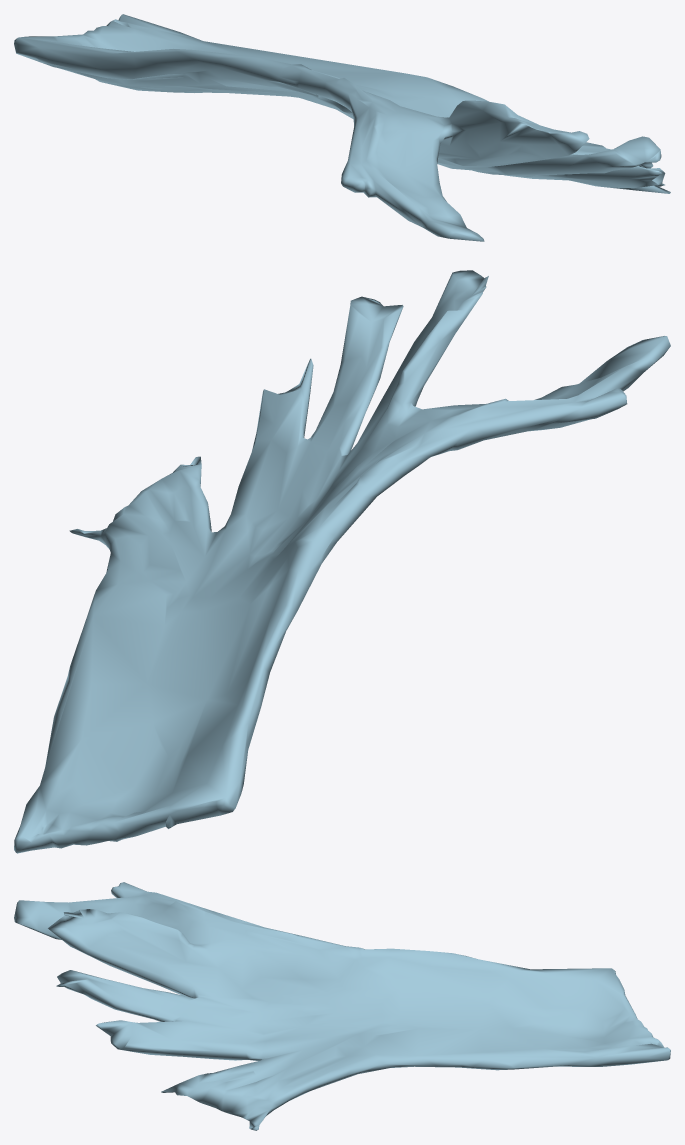
Rendered from articulacoes-long-plantar-ligament-l.glb.
3 renders of one model, top to bottom at view 1: azimuth 30°, elevation 25°; view 2: azimuth 150°, elevation 25°; view 3: azimuth 270°, elevation 25°, orthographic. The views are drawn at different scales.
Visible parts, largest first — view 1: Long plantar ligament.l; view 2: Long plantar ligament.l; view 3: Long plantar ligament.l.
Part boxes in pixels (bbox=[...]): Long plantar ligament.l: bbox=[14, 14, 670, 241]; Long plantar ligament.l: bbox=[14, 270, 670, 853]; Long plantar ligament.l: bbox=[14, 882, 670, 1130].
Bounding box in the file's own units: 0.0507 × 0.0254 × 0.0998.
